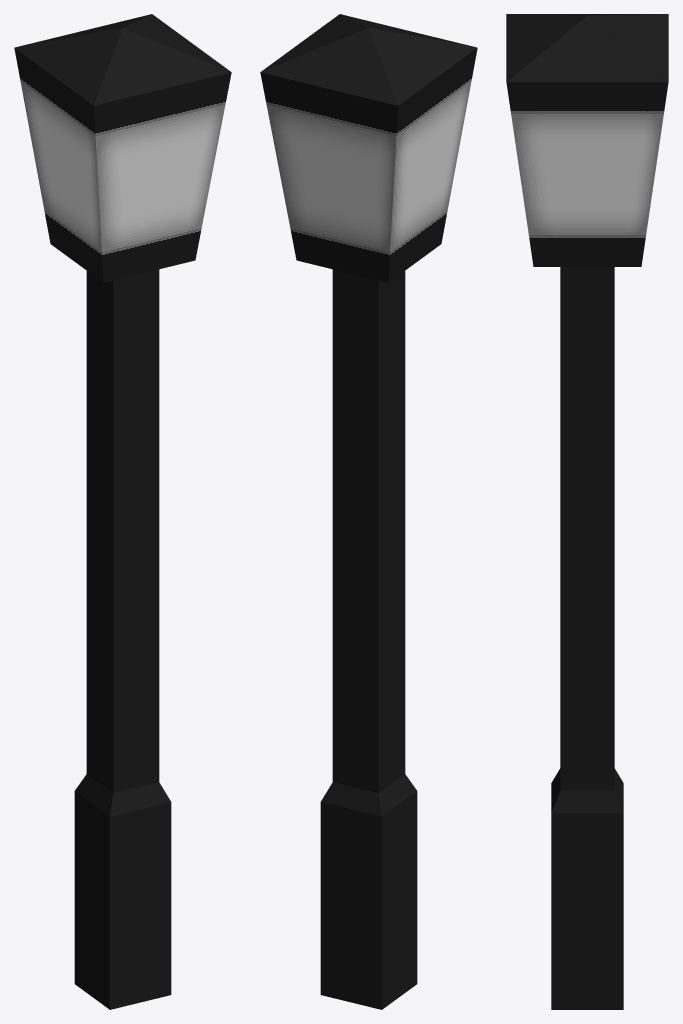
Rendered from lamp.fbx.
3 views of the same model, side by side, from view 1: azimuth 30°, elevation 25°; view 2: azimuth 150°, elevation 25°; view 3: azimuth 270°, elevation 25° (orthographic).
Parts seen in each view (by area): view 1: Cube, Cube_001; view 2: Cube, Cube_001; view 3: Cube, Cube_001.
Part boxes in pixels (<box>): Cube: <box>74,269,171,1009</box>; Cube_001: <box>14,14,231,282</box>; Cube: <box>320,269,417,1009</box>; Cube_001: <box>260,14,477,282</box>; Cube: <box>551,267,623,1009</box>; Cube_001: <box>506,14,668,266</box>.
Bounding box in the file's own units: 2.25 × 15 × 2.25.
